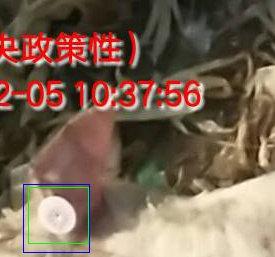text: (28, 187, 88, 243)
